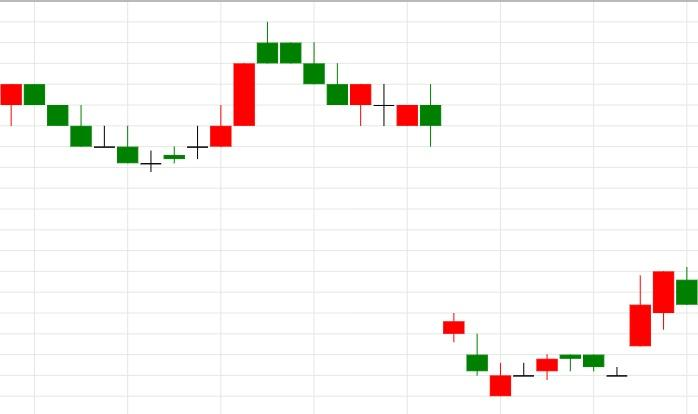three_black_crows_fall: (139, 21, 349, 173)
